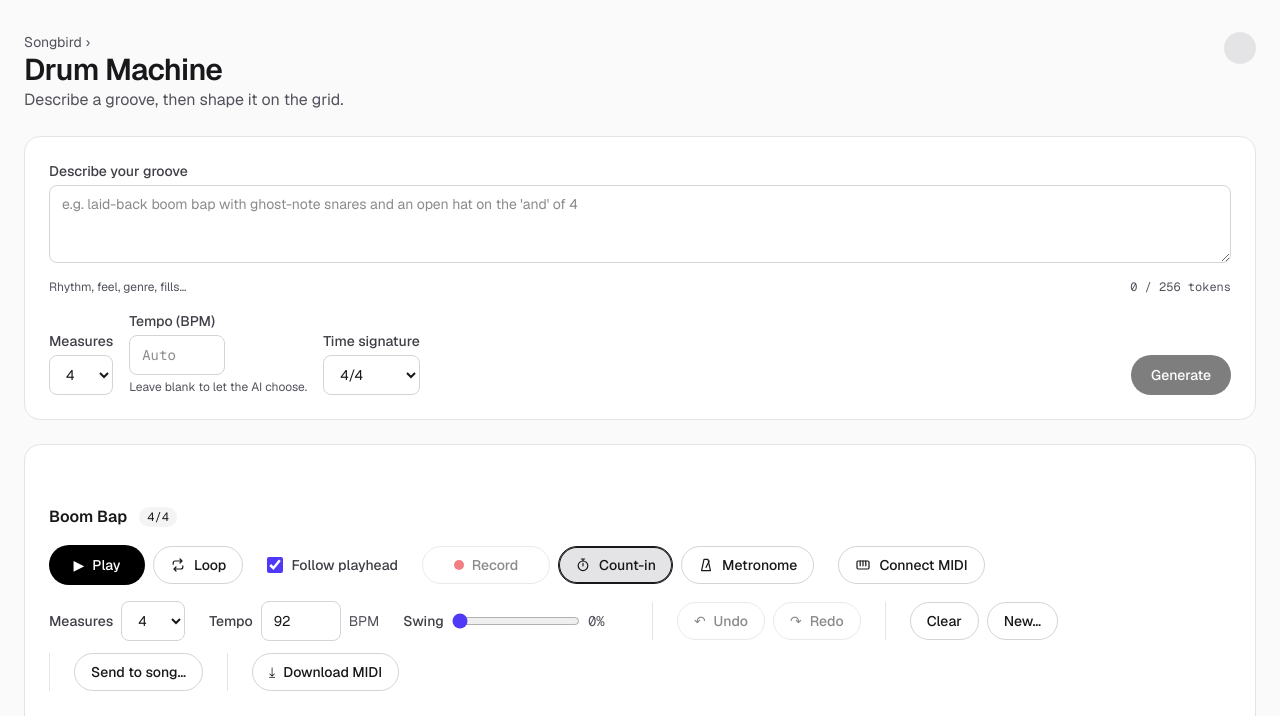
Scenario: prompt form › keeps the displayed pattern and the form values when generation fails
Expected: the dropdown labelled "Measures" next to "Leave blank to let the AI choose." is enabled, [49,355,113,395]
Type "funky" into the text box labelled "Describe your groove" at (640, 224), box [49,185,1231,263]
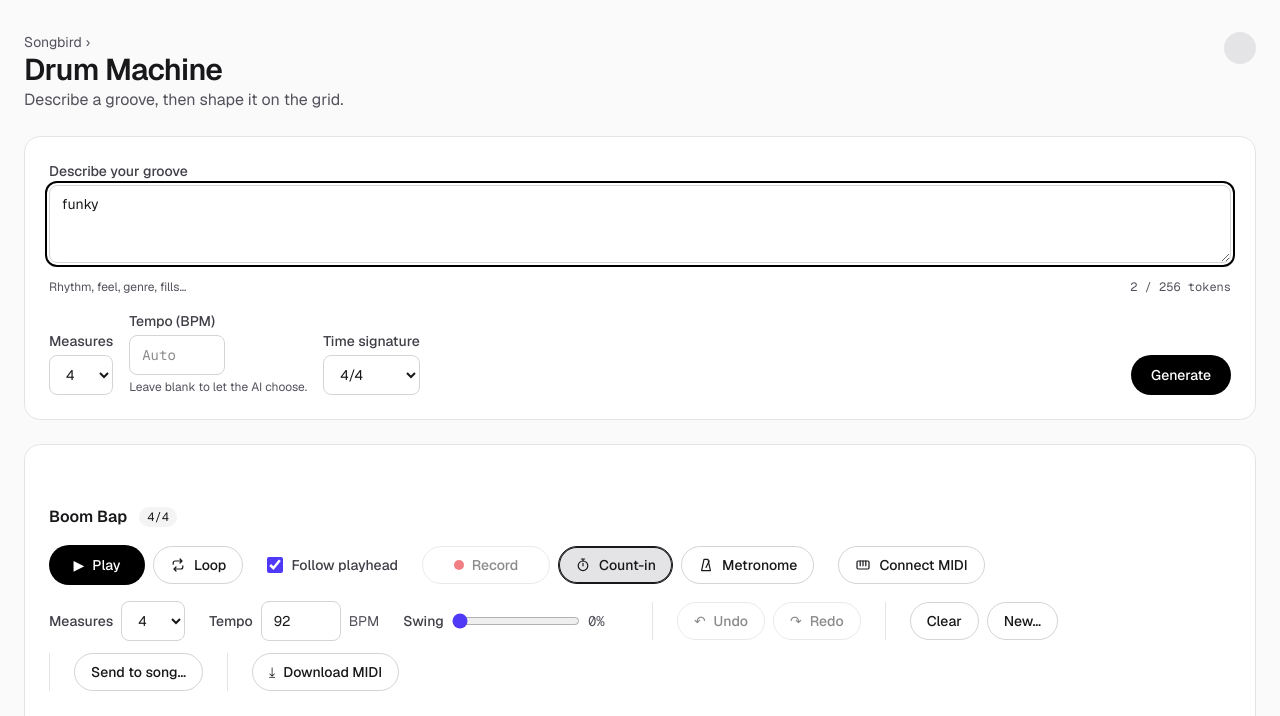
Click the button "Generate" at (1181, 375), box [1131,355,1231,395]
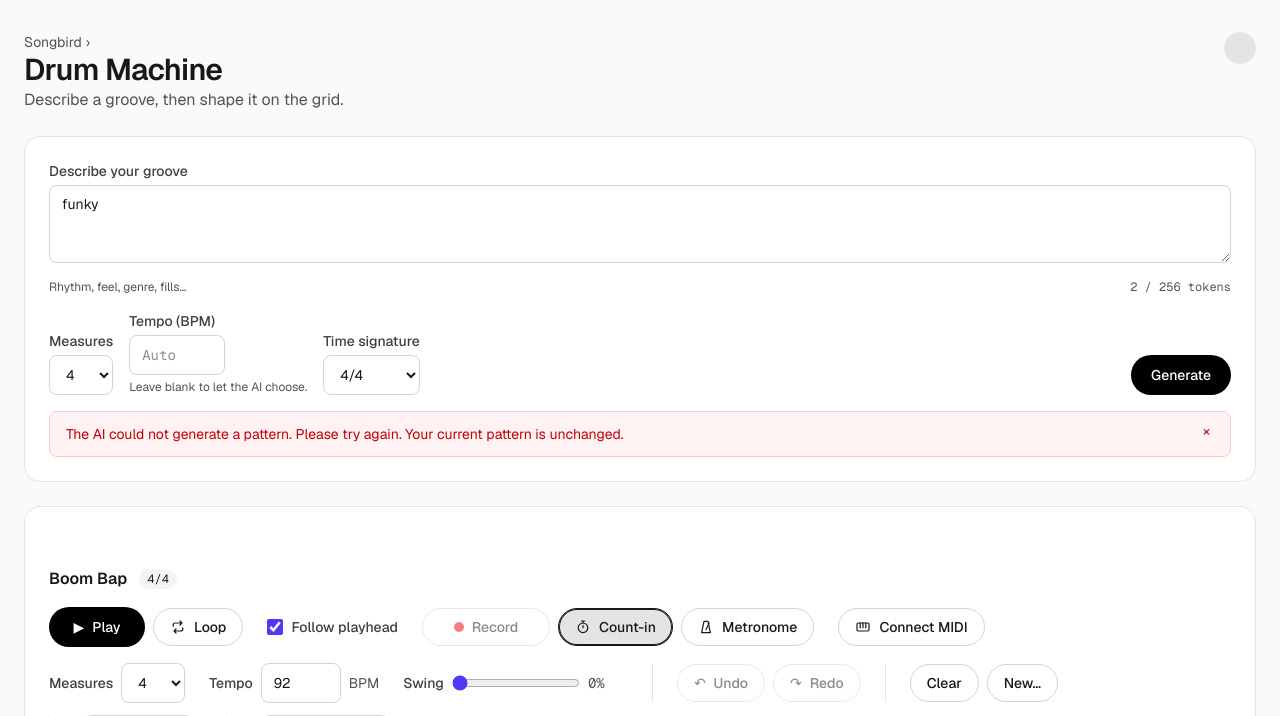
Expected: the button "Generate" is enabled, [1131,355,1231,395]
Expected: the 1st message shows "The AI could not generate a pattern. Please try again. Your current pattern is unchanged.", [66,425,624,443]
